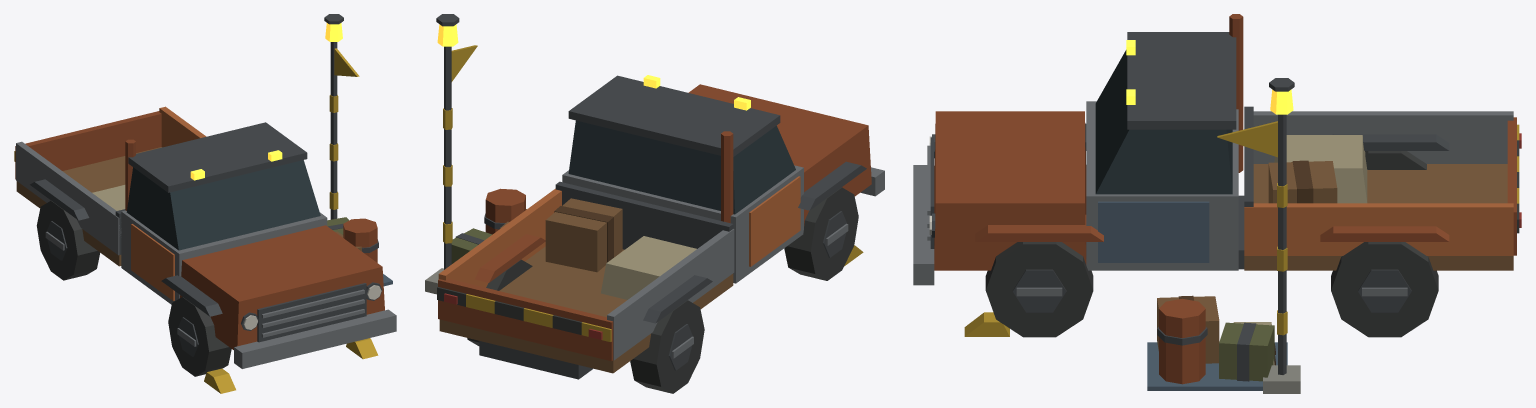
File: vehicle_parked_extraction_t4.glb
3 renders of one model, left to right at view 1: azimuth 30°, elevation 25°; view 2: azimuth 150°, elevation 25°; view 3: azimuth 270°, elevation 25°, orthographic. The views are drawn at different scales.
Parts seen in each view (by area): view 1: vehicle, beacon, stash; view 2: vehicle, beacon, stash; view 3: vehicle, stash, beacon.
Boxes of the visible parts, <box> form: vehicle: <box>14,106,396,393</box>; beacon: <box>324,14,359,219</box>; stash: <box>327,217,392,286</box>; vehicle: <box>437,75,884,393</box>; beacon: <box>425,14,477,294</box>; stash: <box>451,188,526,263</box>; vehicle: <box>913,14,1521,337</box>; stash: <box>1147,295,1287,390</box>; beacon: <box>1217,78,1300,393</box>.
Bounding box in the file's own units: 3.28 × 2.86 × 5.2.
